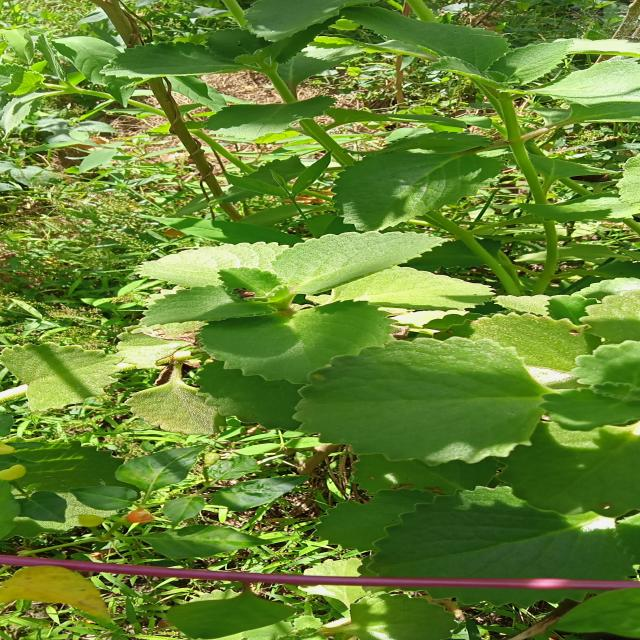Oregano: (70, 222, 507, 402), (240, 334, 596, 472), (97, 0, 417, 138), (264, 114, 572, 254), (353, 501, 640, 617)
